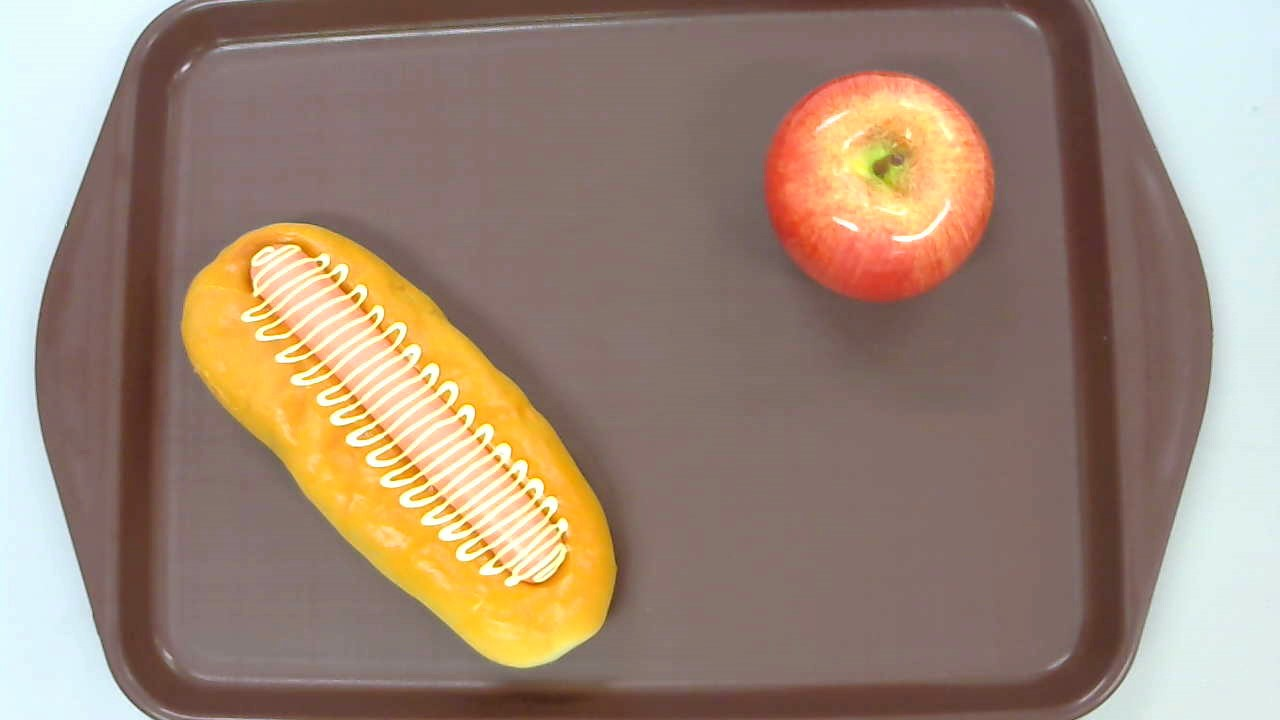hot dog: (179, 223, 617, 669)
red apple: (762, 69, 994, 306)
